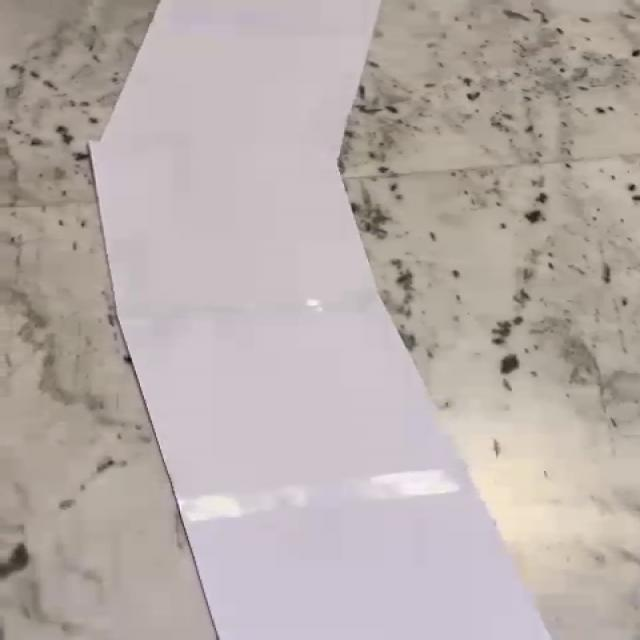road: (89, 0, 553, 640)
